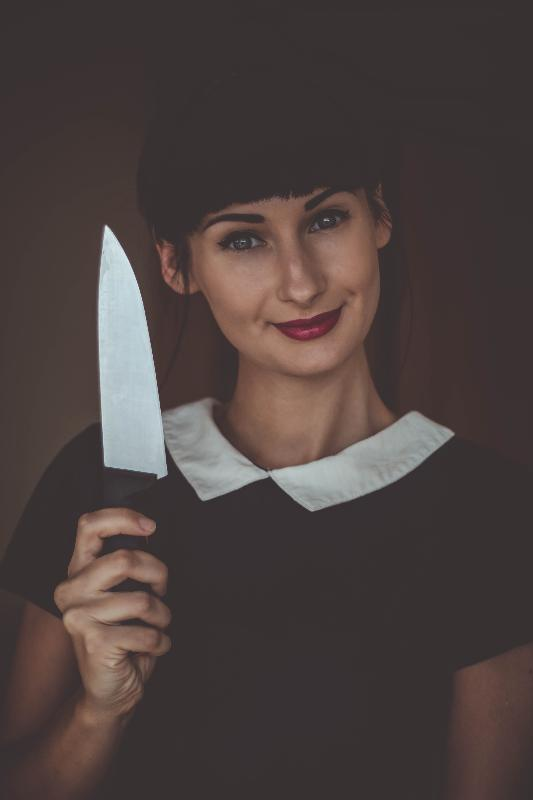Person: (1, 75, 533, 793)
